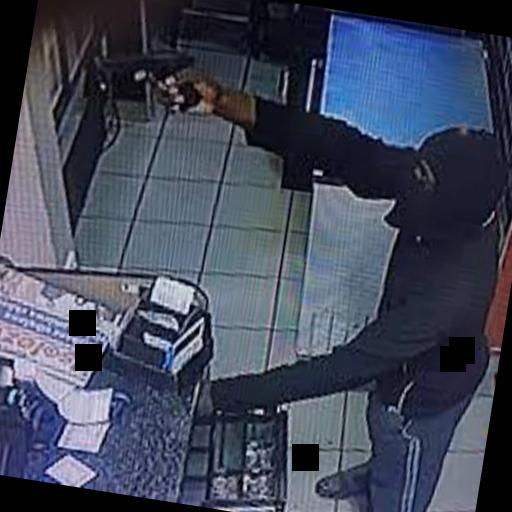Handgun: (75, 30, 212, 114)
